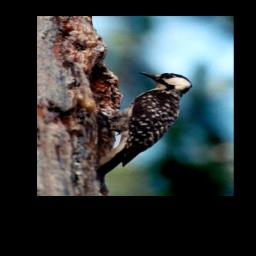Woodpecker: (89, 69, 204, 183)
